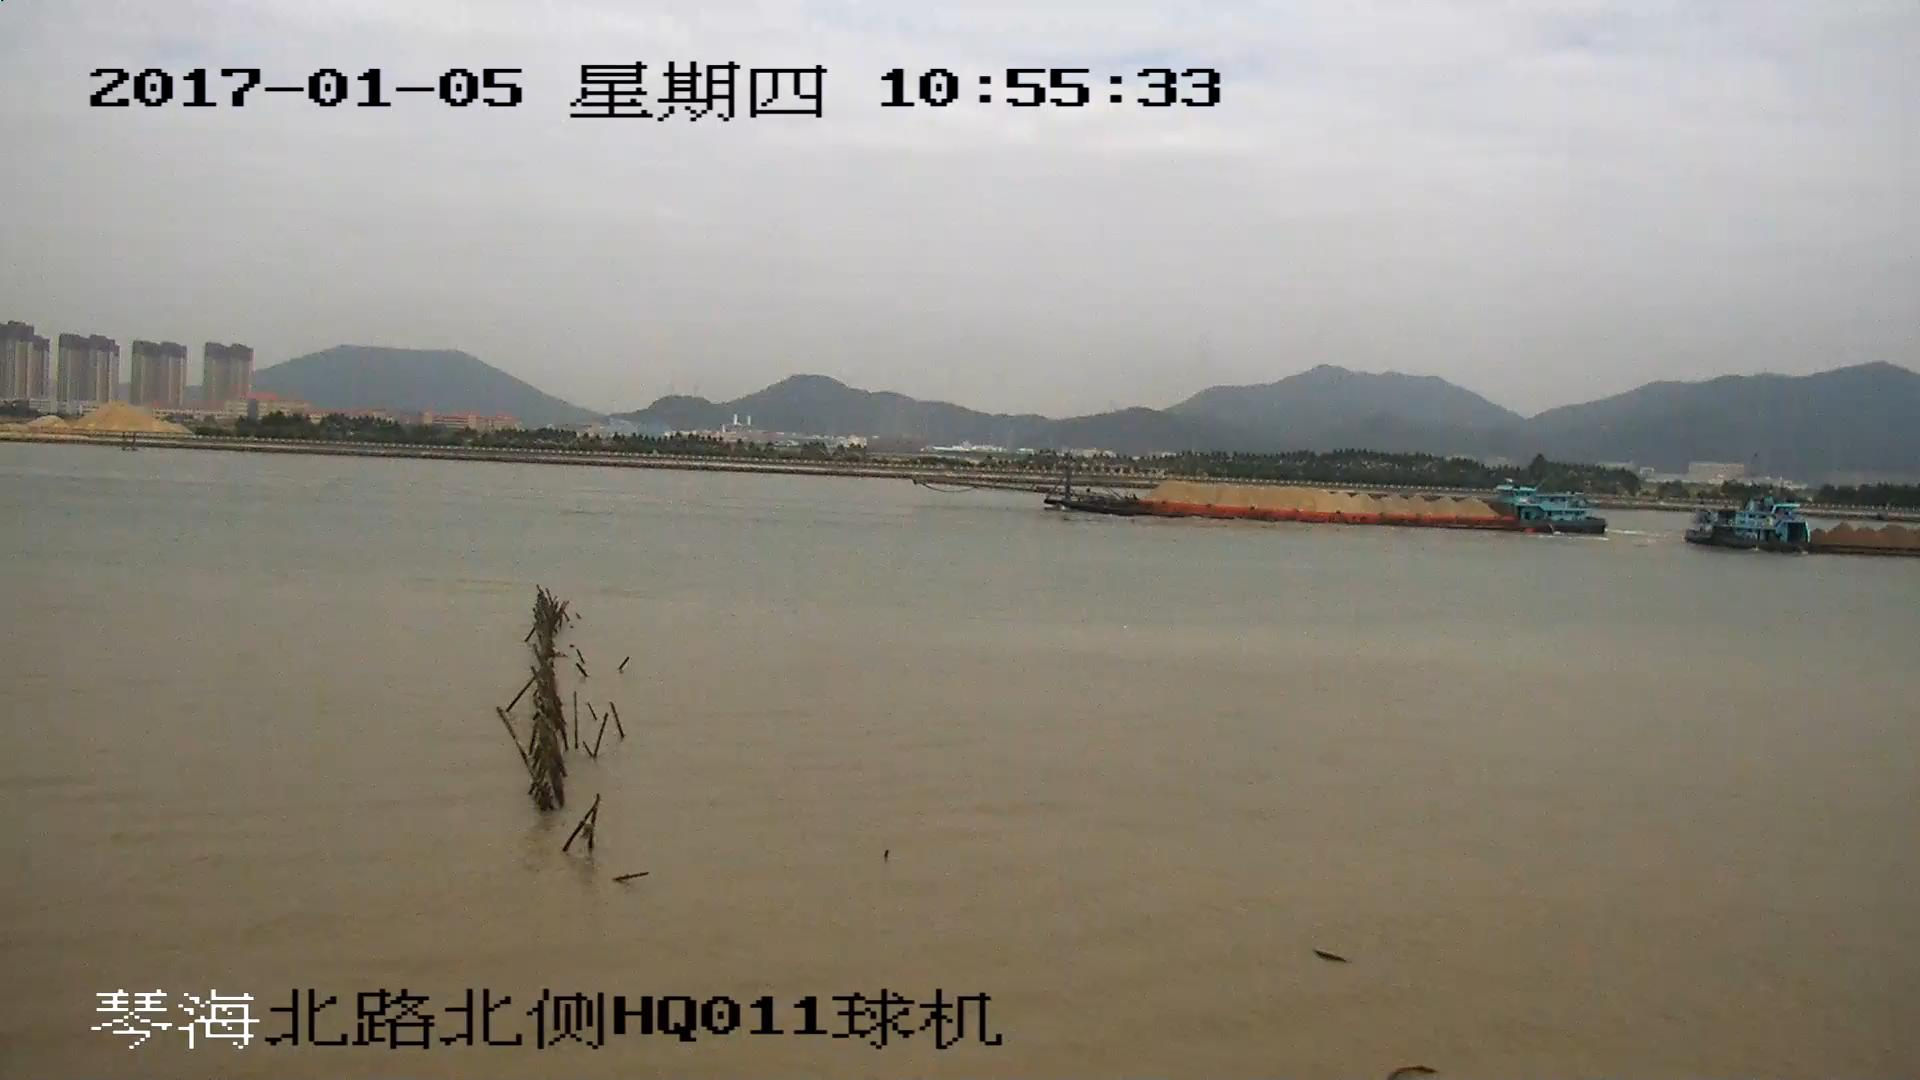ore carrier: (940, 460, 1604, 536), (1692, 504, 1920, 558)
